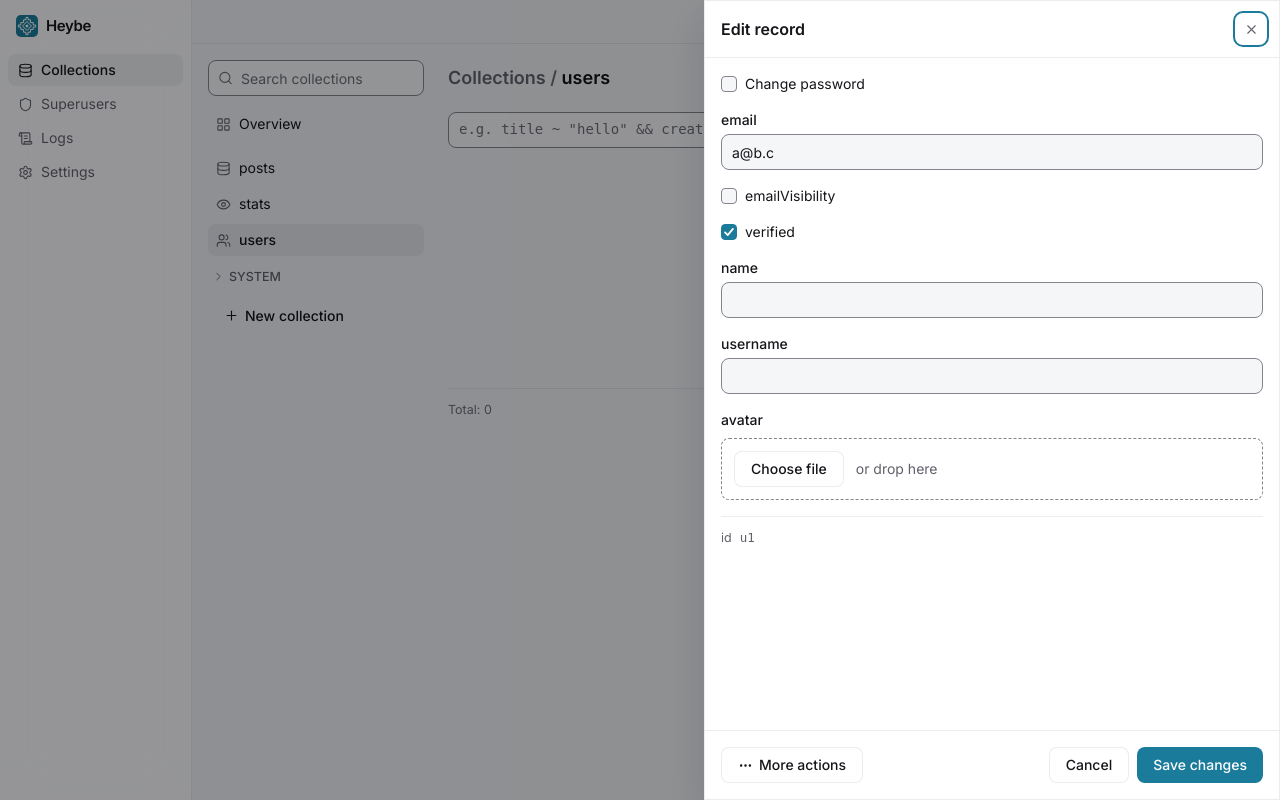
Test: password is sent only when Change password is checked
The width and height of the screenshot is (1280, 800).
Expected: the dialog "Edit record" is shown, [704,0,1279,799]
Expected: the field labelled "email" is shown, [721,134,1263,170]
Click the checkbox labelled "Change password" at (729, 84), box [721,76,737,92]
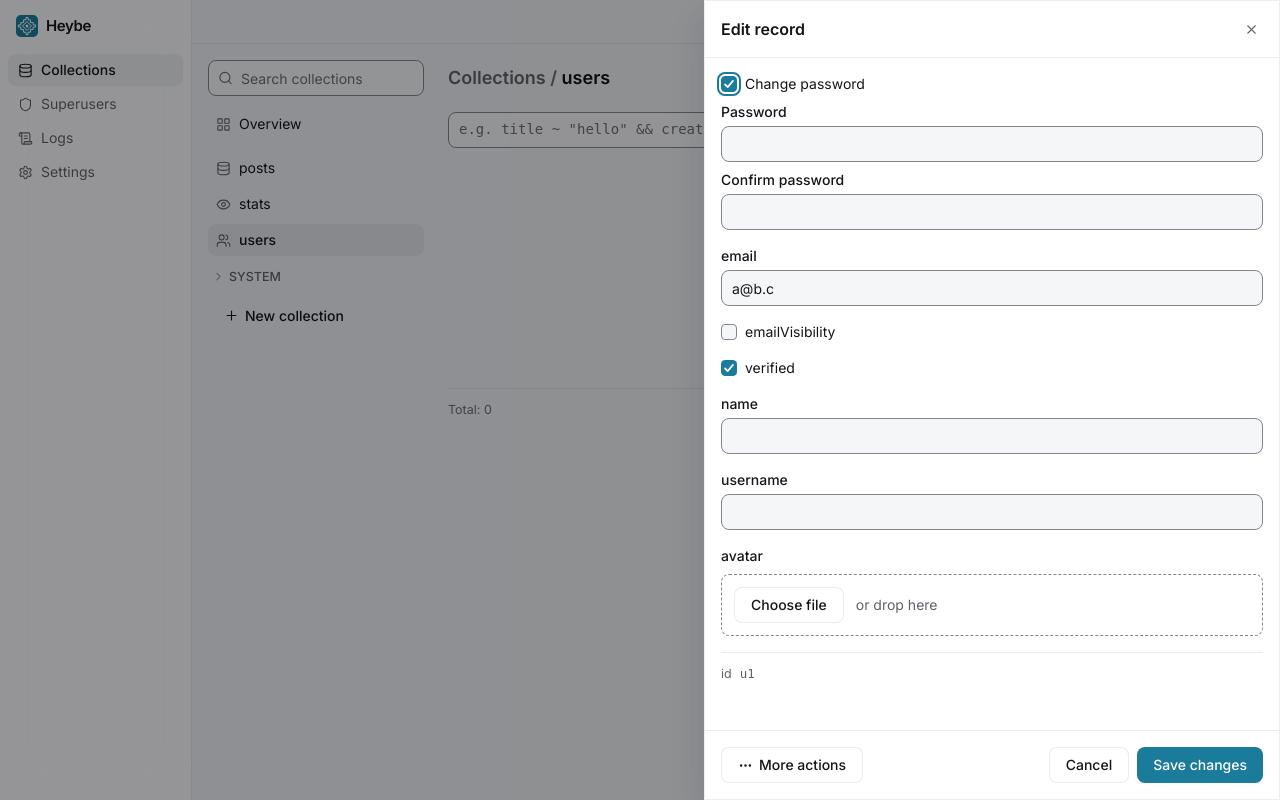
Type "secret123" into the password field labelled "Password" at (992, 144), box [721,126,1263,162]
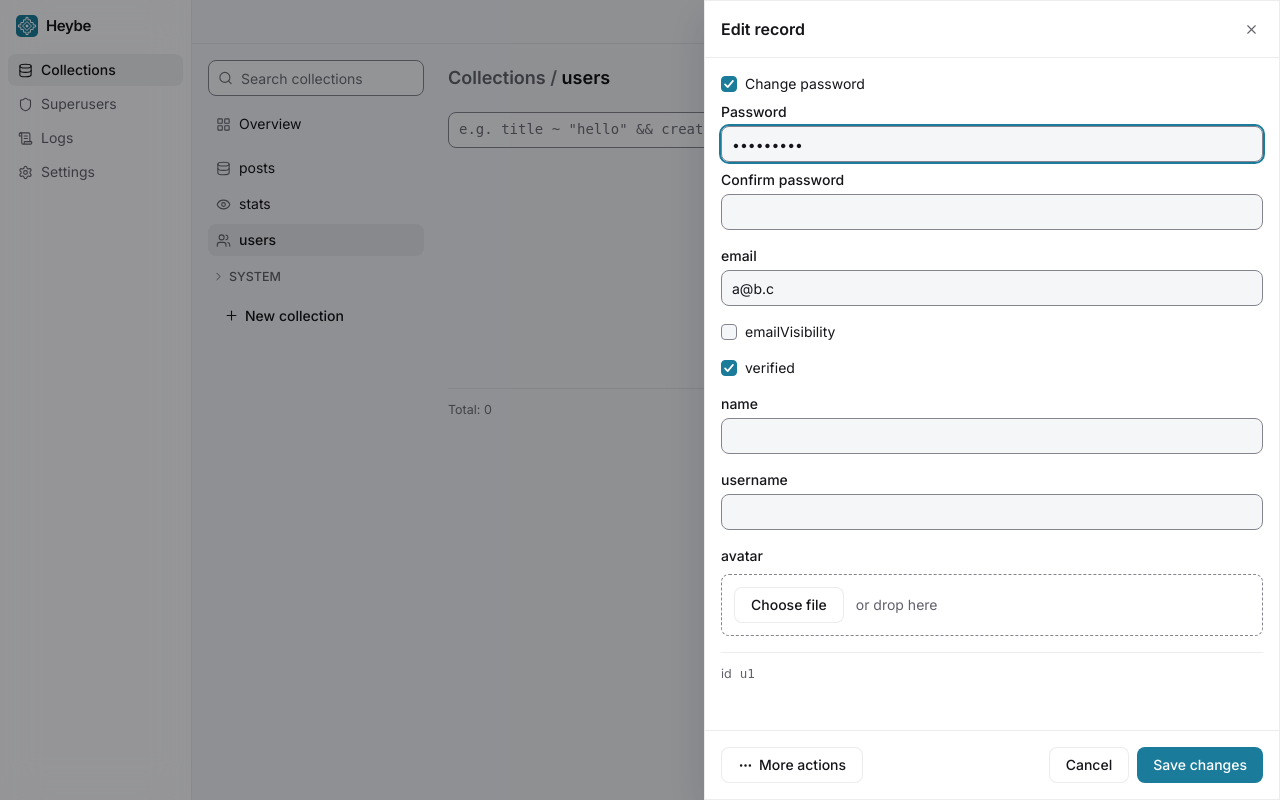
Type "secret123" into the password field labelled "Confirm password" at (992, 212), box [721,194,1263,230]
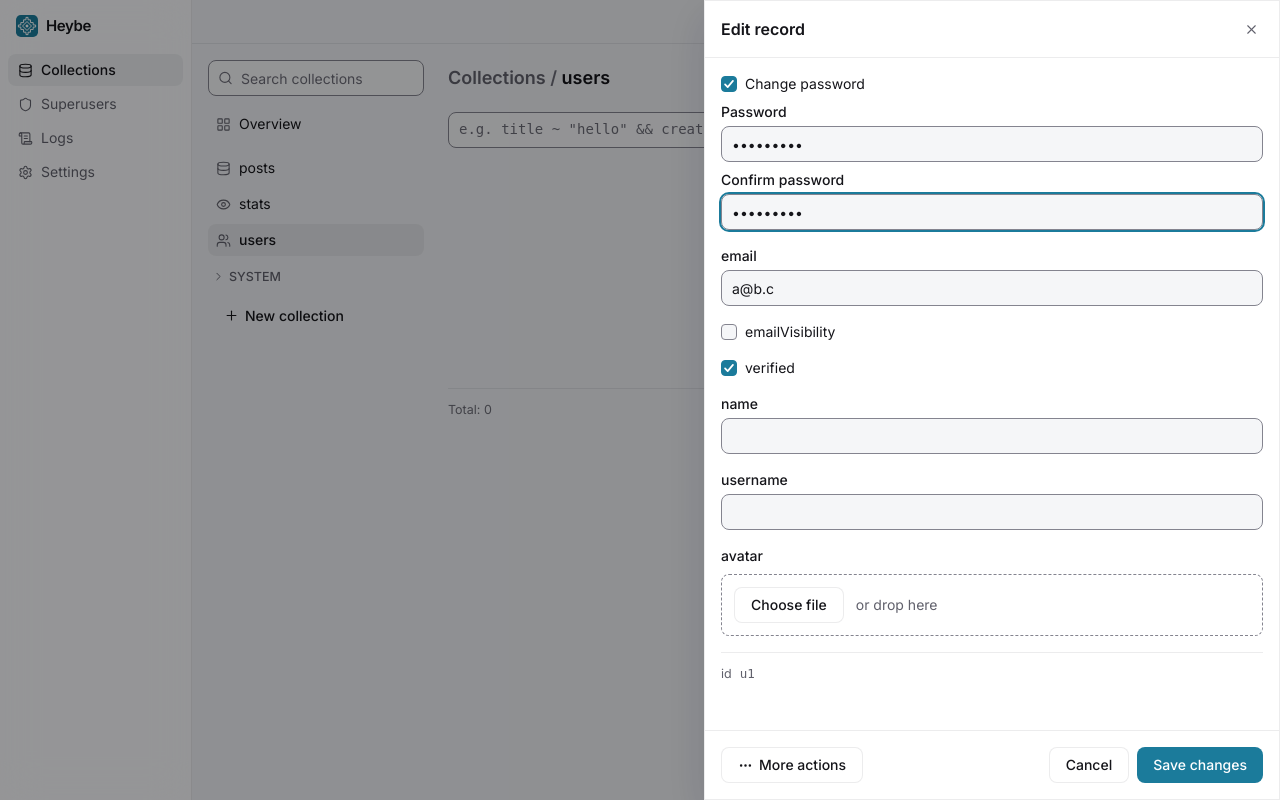
Click the button "Save changes" at (1200, 765), box [1137,747,1263,783]
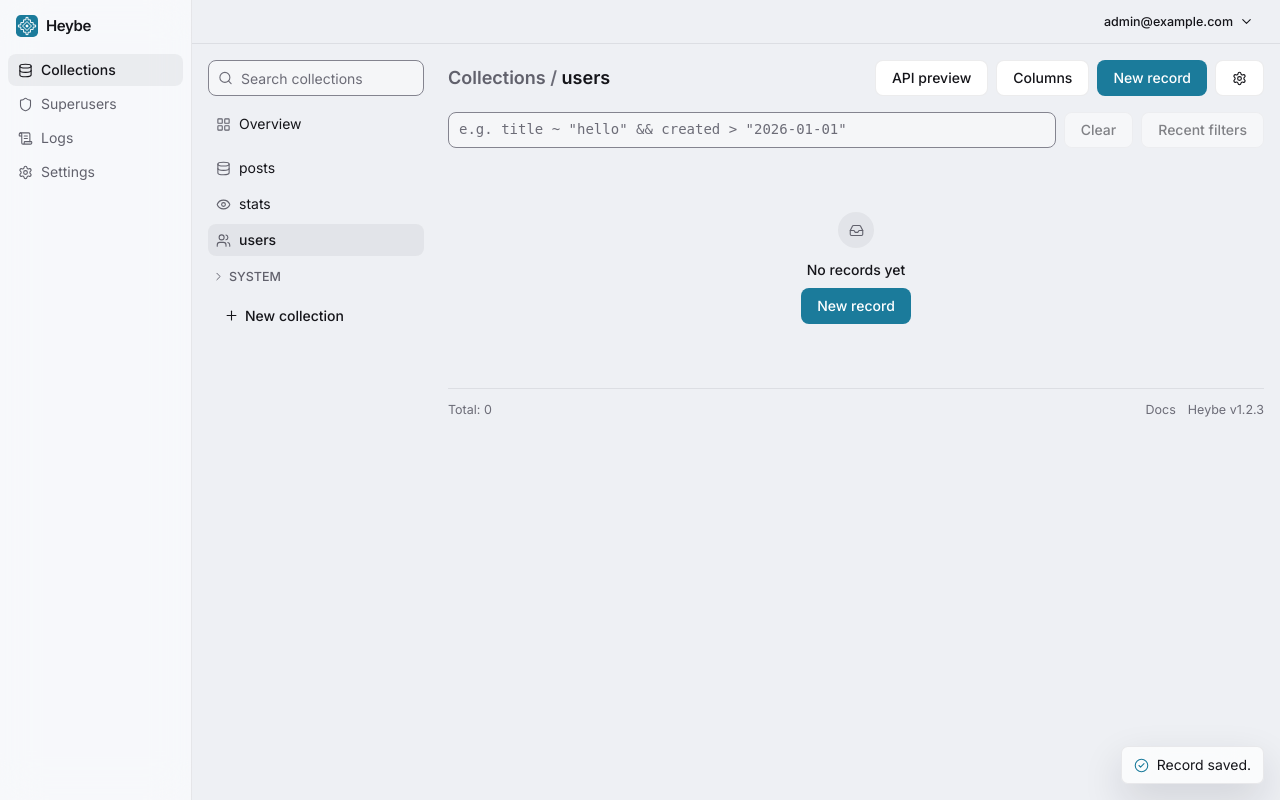
Now the text "Record saved." is shown, box [1121,746,1264,784]
